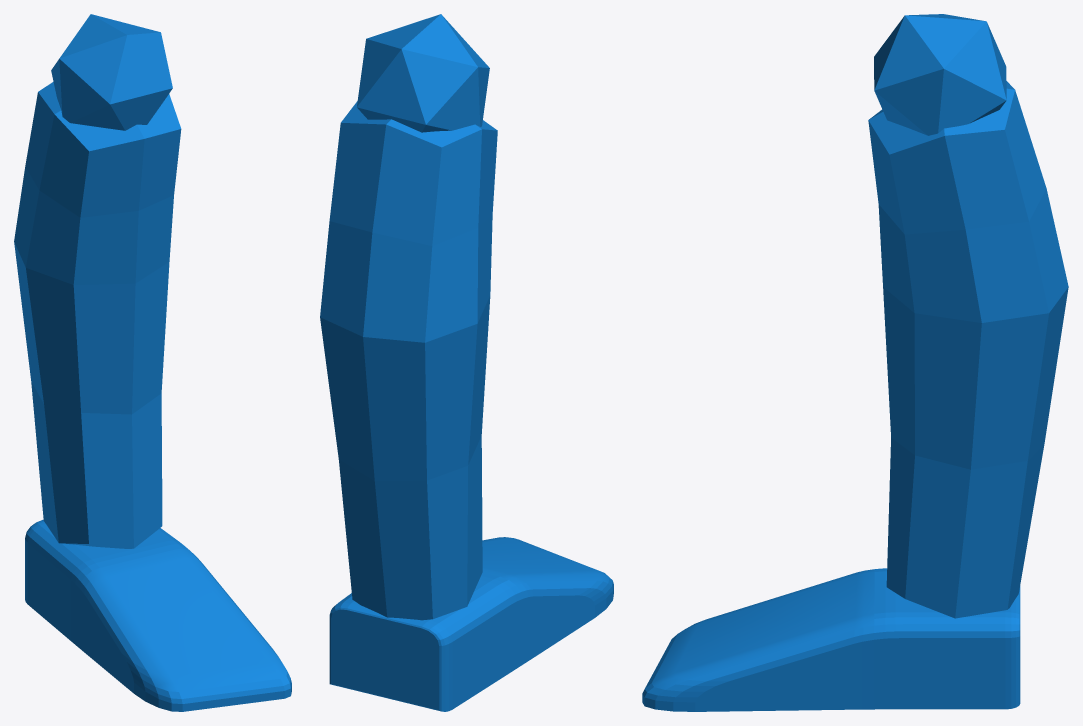
File: LEFT_CALF.fbx
The picture shows the model from 3 angles, left to right: view 1: azimuth 30°, elevation 25°; view 2: azimuth 150°, elevation 25°; view 3: azimuth 270°, elevation 25°; orthographic projection. The views are drawn at different scales.
Parts seen in each view (by area): view 1: RIGHT_KNEE.001; view 2: RIGHT_KNEE.001; view 3: RIGHT_KNEE.001.
Part boxes in pixels (<box>): RIGHT_KNEE.001: <box>14,14,291,711</box>; RIGHT_KNEE.001: <box>320,14,613,711</box>; RIGHT_KNEE.001: <box>642,14,1068,711</box>.
Bounding box in the file's own units: 0.2213 × 0.9432 × 0.5486.
